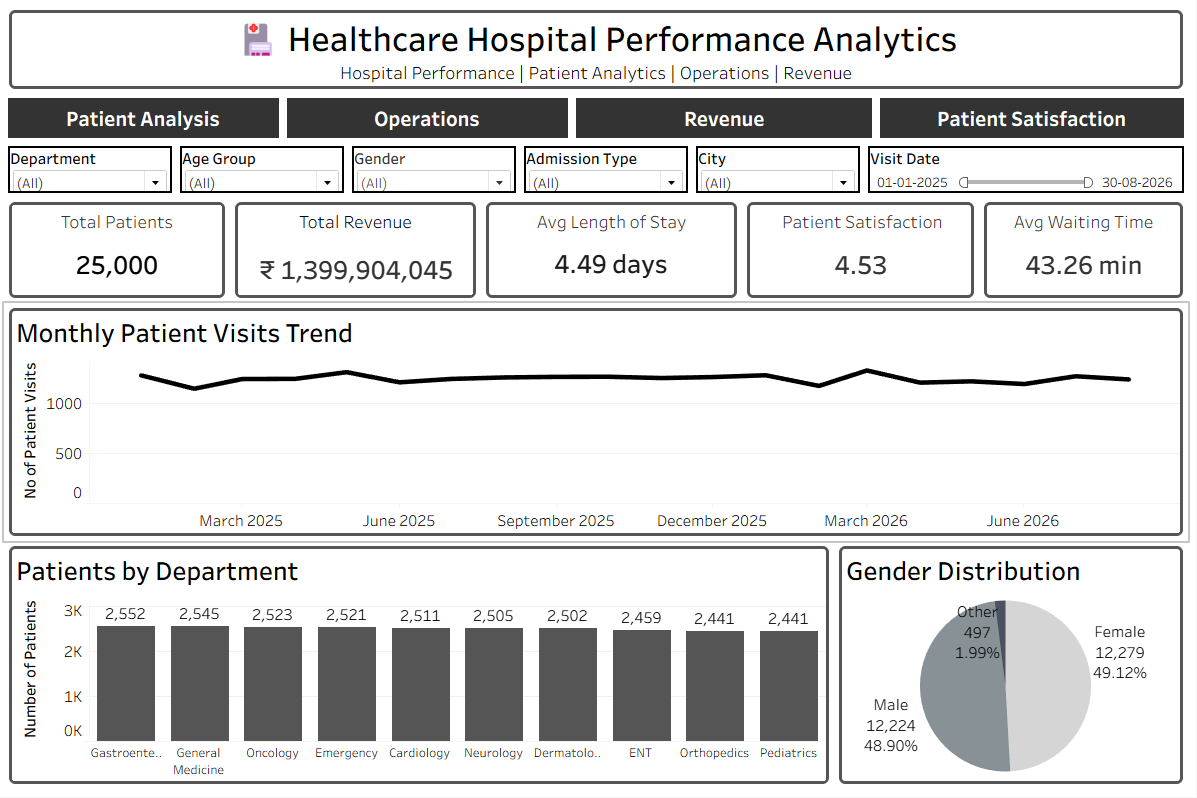

What the dashboard file says about the page in this screenshot:
{"tool":"tableau","page":{"name":"Executive Hospital Overview","canvas":[1200,800],"ordinal":0},"visuals":[{"type":"text","box":[8,8,1184,89]},{"type":"dashboard-object","box":[8,97,279,48]},{"type":"dashboard-object","box":[287,97,289,48]},{"type":"dashboard-object","box":[576,97,304,48]},{"type":"dashboard-object","box":[880,97,312,48]},{"type":"filter","title":"Patients by Department","param":"[federated.021qrdy1qlfxn418fp3km0obmuer].[none:Department_Name:nk]","box":[8,145,172,55]},{"type":"filter","title":"Patients by Department","param":"[federated.021qrdy1qlfxn418fp3km0obmuer].[none:Calculation_1753767049990144:nk]","box":[180,145,172,55]},{"type":"filter","title":"Gender Distribution","param":"[federated.021qrdy1qlfxn418fp3km0obmuer].[none:Gender:nk]","box":[352,145,172,55]},{"type":"filter","title":"Patients by Department","param":"[federated.021qrdy1qlfxn418fp3km0obmuer].[none:Admission_Type:nk]","box":[524,145,172,55]},{"type":"filter","title":"Patients by Department","param":"[federated.021qrdy1qlfxn418fp3km0obmuer].[none:City:nk]","box":[696,145,172,55]},{"type":"filter","title":"Patients by Department","param":"[federated.021qrdy1qlfxn418fp3km0obmuer].[none:Visit_Date:qk]","box":[868,145,324,55]},{"type":"worksheet","title":" KPI - Total Patients","mark":"Text","box":[8,200,226,106]},{"type":"worksheet","title":"KPI - Total Revenue","mark":"Automatic","box":[234,200,251,106]},{"type":"worksheet","title":"KPI - Avg Length of Stay","mark":"Automatic","box":[485,200,261,106]},{"type":"worksheet","title":"KPI - Patient Satisfaction","mark":"Automatic","box":[746,200,237,106]},{"type":"worksheet","title":"KPI - Avg Waiting Time","mark":"Automatic","box":[983,200,209,106]},{"type":"worksheet","title":"Monthly Patient Visits","mark":"Automatic","rows":["Visit_ID"],"cols":["Visit_Date"],"box":[8,306,1184,238]},{"type":"worksheet","title":"Patients by Department","mark":"Automatic","rows":["Patient_ID (patients)"],"cols":["Department_Name"],"box":[8,544,829.9,248]},{"type":"worksheet","title":"Gender Distribution","mark":"Pie","box":[837.9,544,354,248]}]}

Visuals, with their boxes in screenshot pixels (x1, y1, x2, y2), scaled from the page's 1200x800 canvas onto the 1197x798 screenshot:
text: 8/8/1189/97
dashboard-object: 8/97/286/145
dashboard-object: 286/97/575/145
dashboard-object: 575/97/878/145
dashboard-object: 878/97/1189/145
"Patients by Department" filter: 8/145/180/200
"Patients by Department" filter: 180/145/351/200
"Gender Distribution" filter: 351/145/523/200
"Patients by Department" filter: 523/145/694/200
"Patients by Department" filter: 694/145/866/200
"Patients by Department" filter: 866/145/1189/200
" KPI - Total Patients" worksheet (Text marks): 8/200/233/305
"KPI - Total Revenue" worksheet: 233/200/484/305
"KPI - Avg Length of Stay" worksheet: 484/200/744/305
"KPI - Patient Satisfaction" worksheet: 744/200/981/305
"KPI - Avg Waiting Time" worksheet: 981/200/1189/305
"Monthly Patient Visits" worksheet: 8/305/1189/543
"Patients by Department" worksheet: 8/543/836/790
"Gender Distribution" worksheet (Pie marks): 836/543/1189/790
